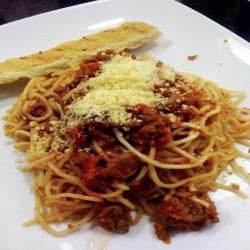bolonese_pasta: (19, 59, 248, 238)
bread: (3, 19, 163, 84)
